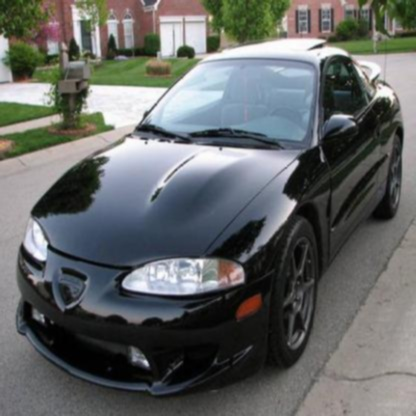Vehicle: (16, 40, 406, 396)
